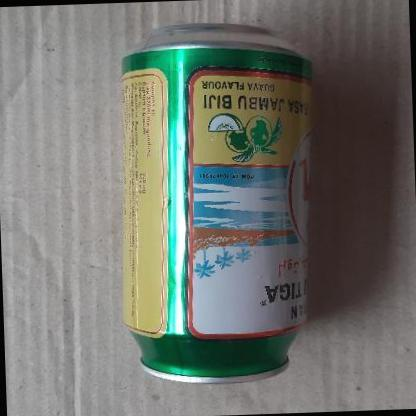alumunium_can: (69, 13, 350, 392)
